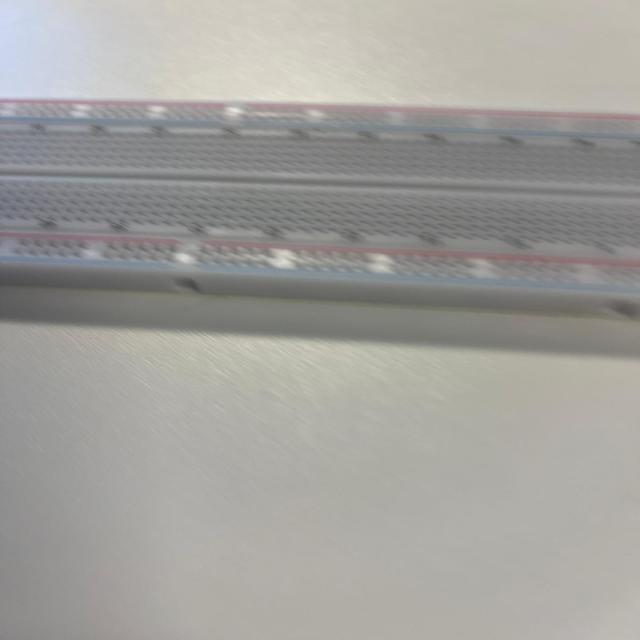BreadBoard: (19, 93, 633, 323)
